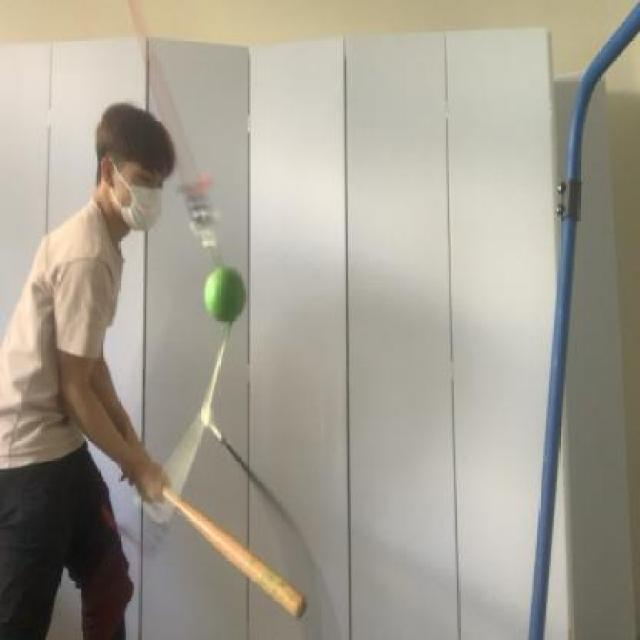baseball: (202, 260, 248, 322)
